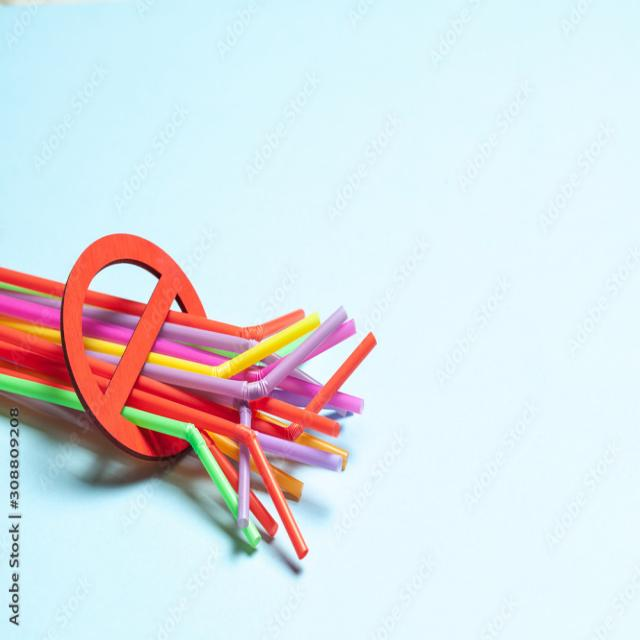plastic: (166, 296, 349, 402)
